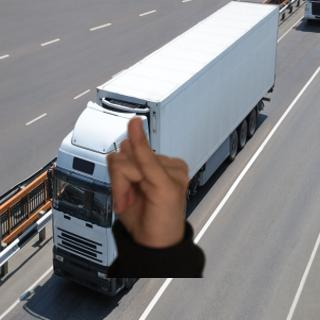HAVE: (93, 118, 206, 254)
